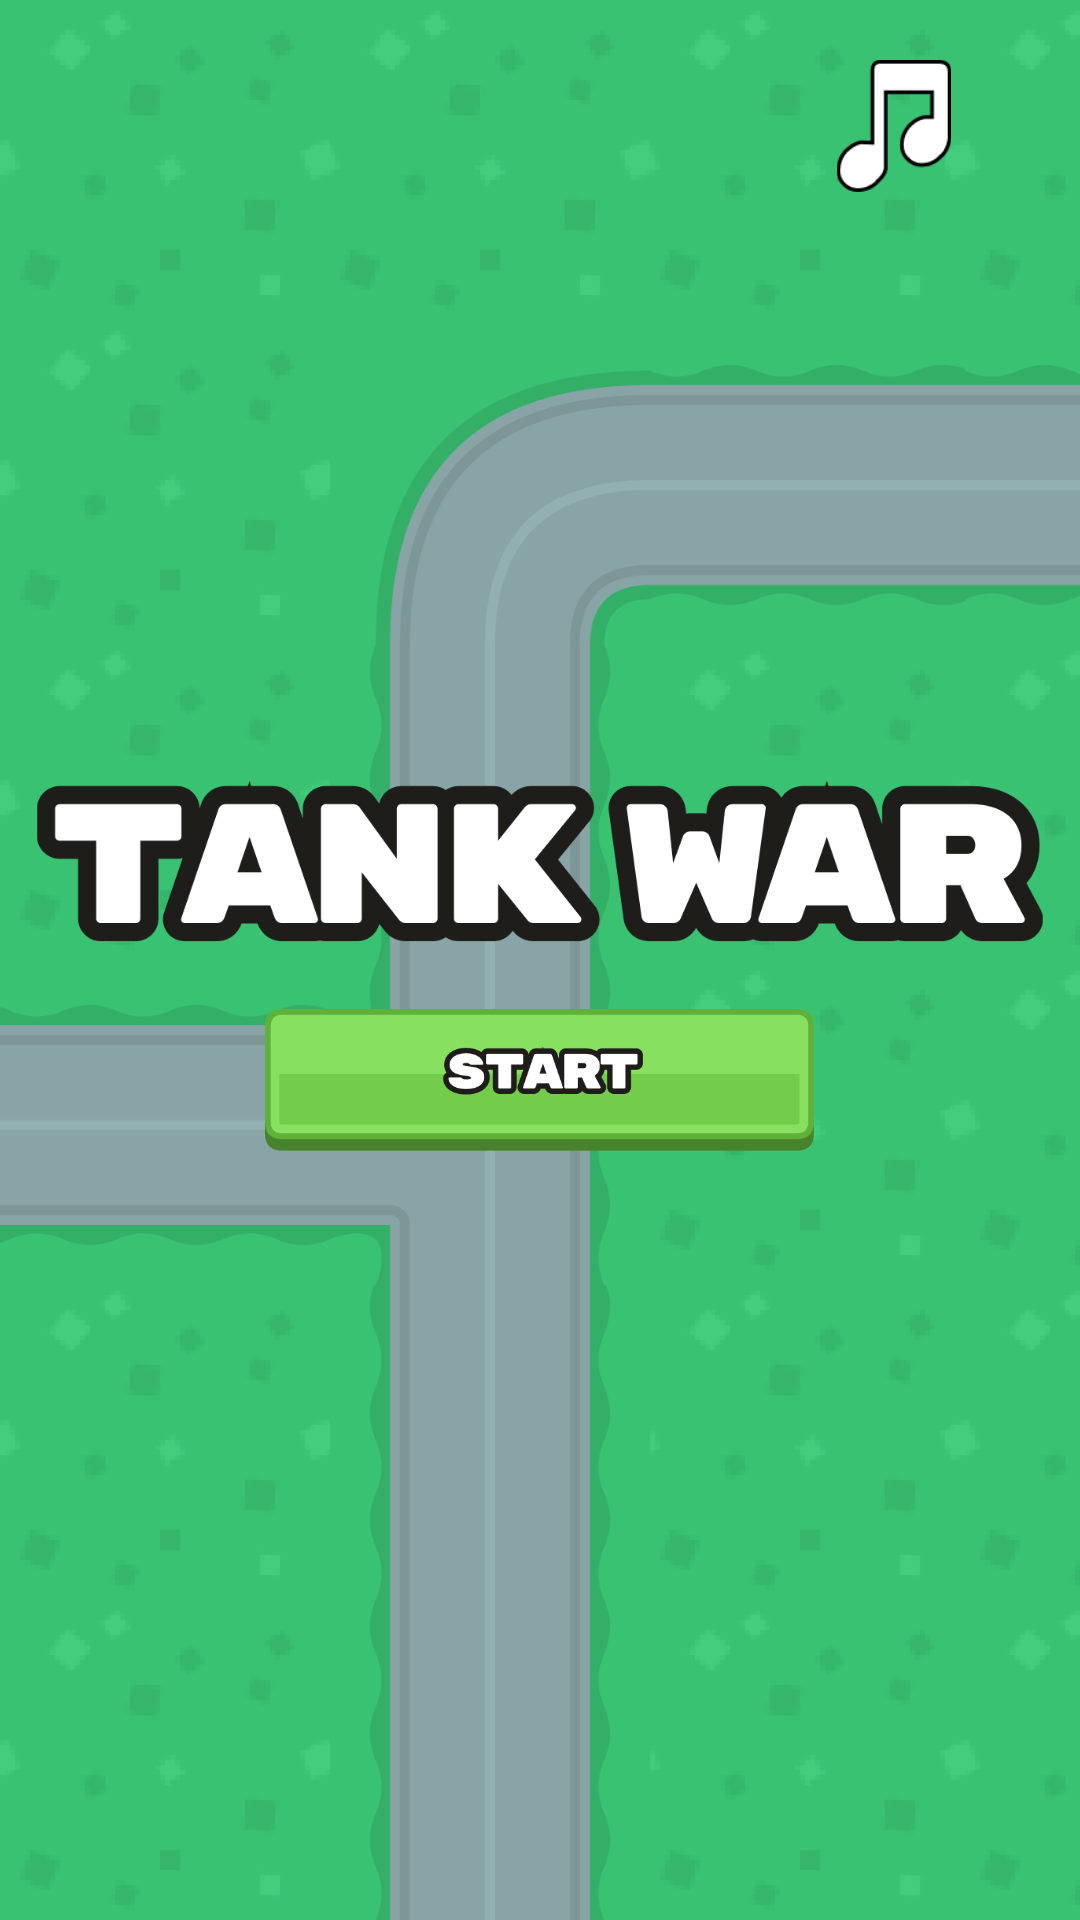

Locate icon controls on the screen. Image size 1080*1920, boxes as (x1, y1, x2, y2).
music on: (837, 60, 951, 192)
